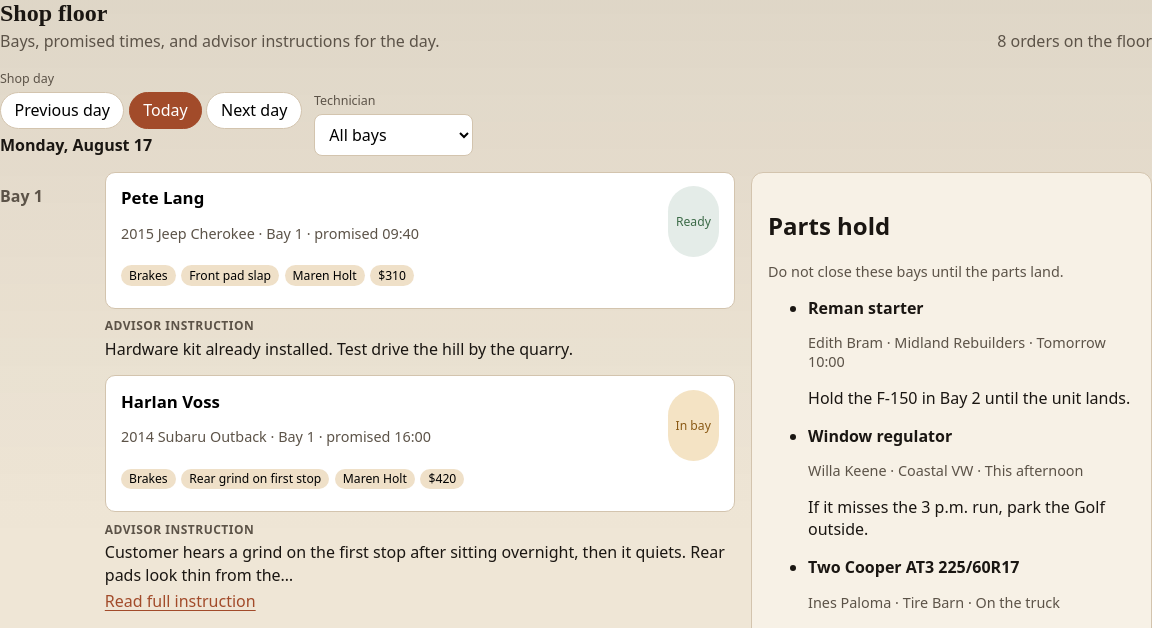
Shop floor › filters the floor by technician
Select "Otto Graves" in the dropdown labelled "Technician" at [393, 135], box [314, 114, 473, 156]
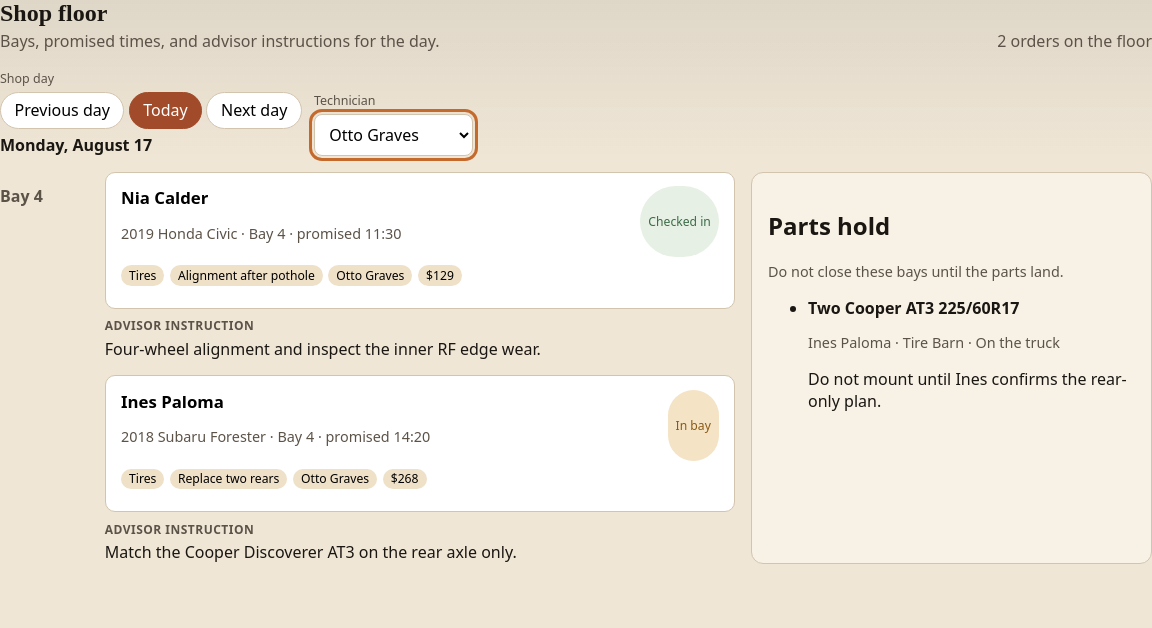
Check: the heading "Nia Calder" is shown, box [121, 186, 208, 209]
Check: the button "Harlan Voss" is gone
